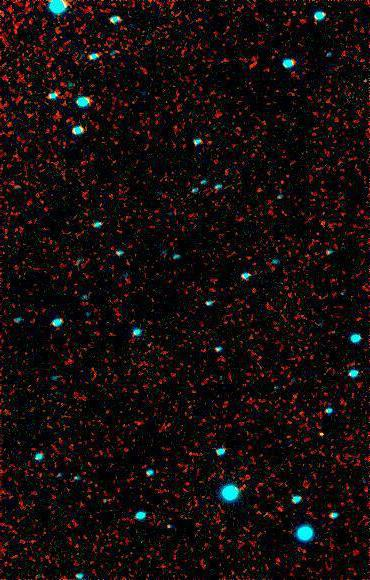star: (308, 420, 338, 450)
